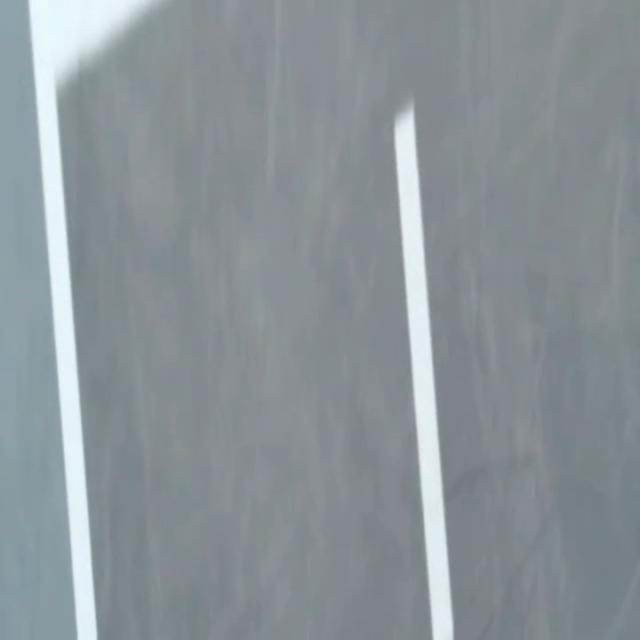center: (395, 102, 453, 639)
left: (28, 0, 97, 639)
